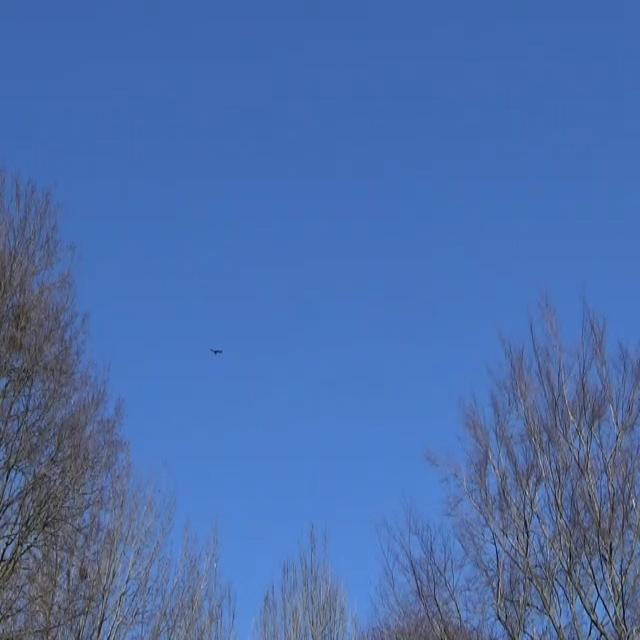bird: (208, 341, 226, 361)
